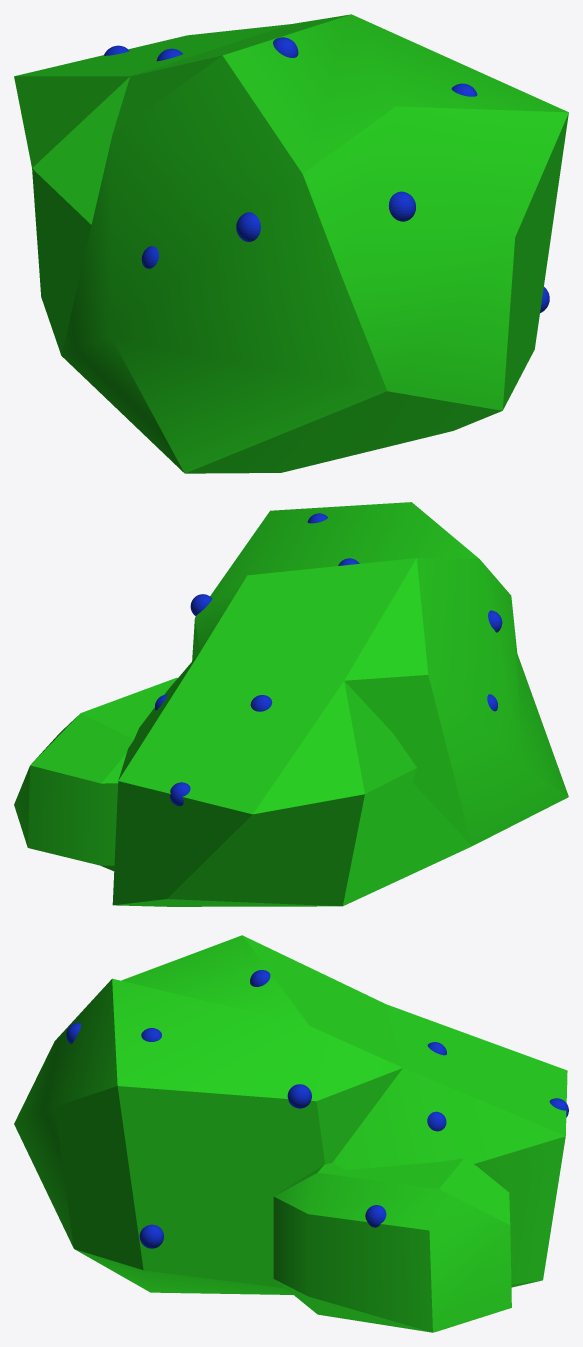
The model's file is GrannyBush.fbx.
3 renders of one model, top to bottom at view 1: azimuth 30°, elevation 25°; view 2: azimuth 150°, elevation 25°; view 3: azimuth 270°, elevation 25°, orthographic. The views are drawn at different scales.
Visible parts, largest first — view 1: treeBush.001, Sphere.017, Sphere.011; view 2: treeBush.001 (×2); view 3: treeBush.001 (×2).
Part boxes in pixels (x1,y1,x2,y2): treeBush.001: [14, 14, 568, 473]; Sphere.017: [388, 191, 415, 221]; Sphere.011: [236, 212, 260, 241]; treeBush.001 (×2): [14, 502, 568, 906]; treeBush.001 (×2): [14, 935, 567, 1332].
Size of the model in its own units: 556 by 396 by 668.
